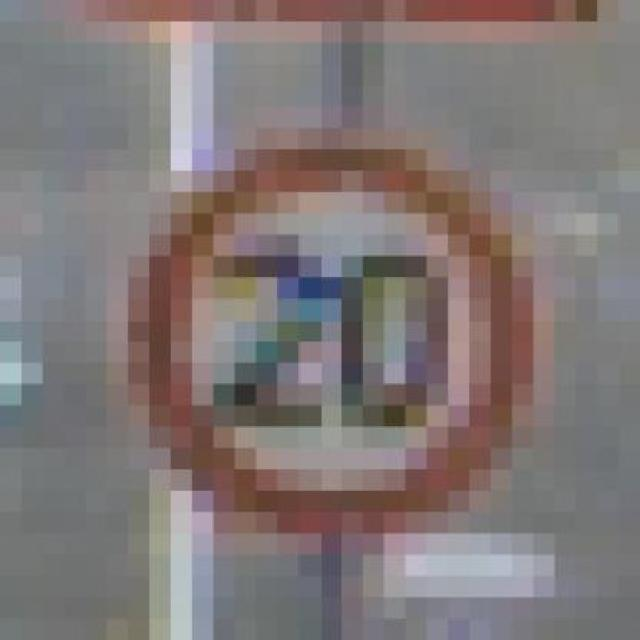forb_speed_over_20: (154, 150, 532, 527)
